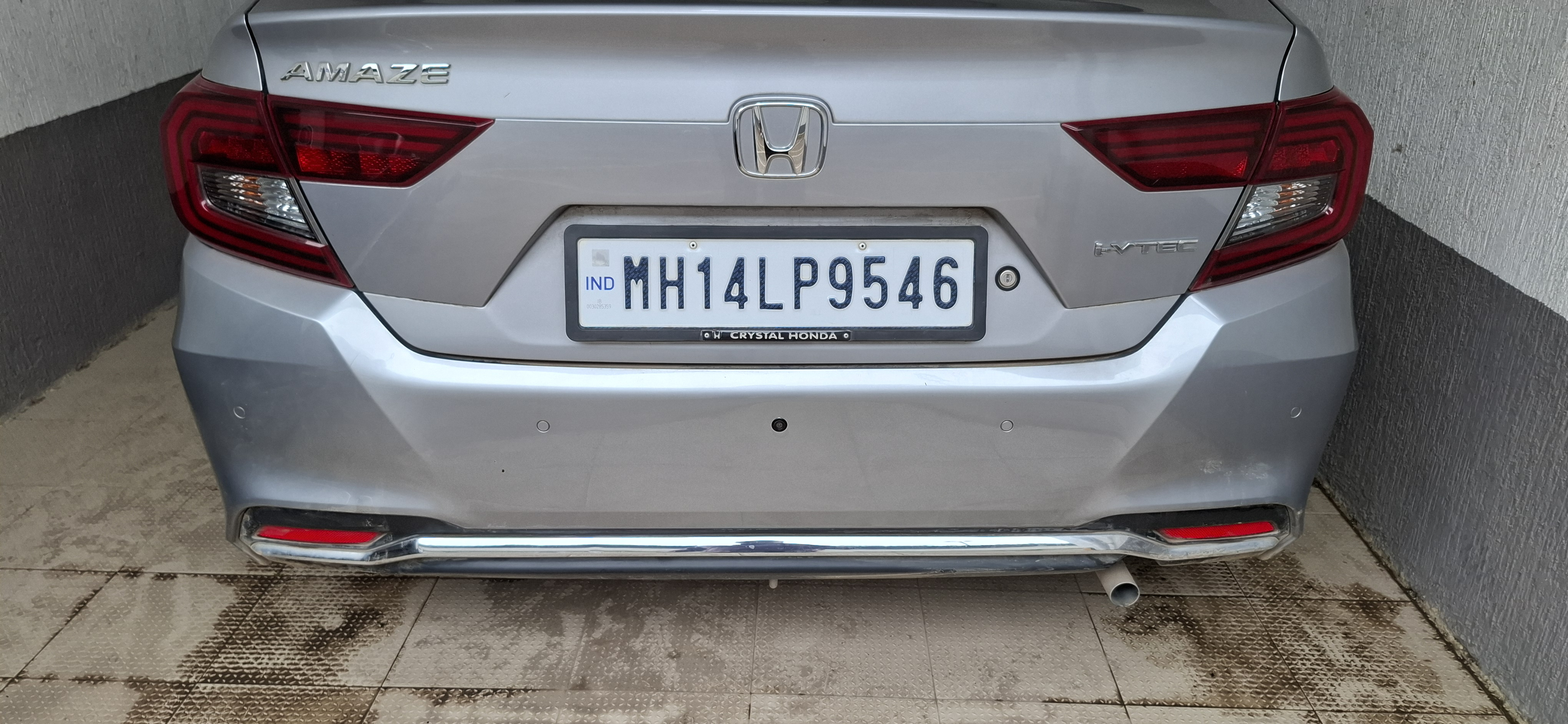license_plate: (168, 8, 1375, 586)
